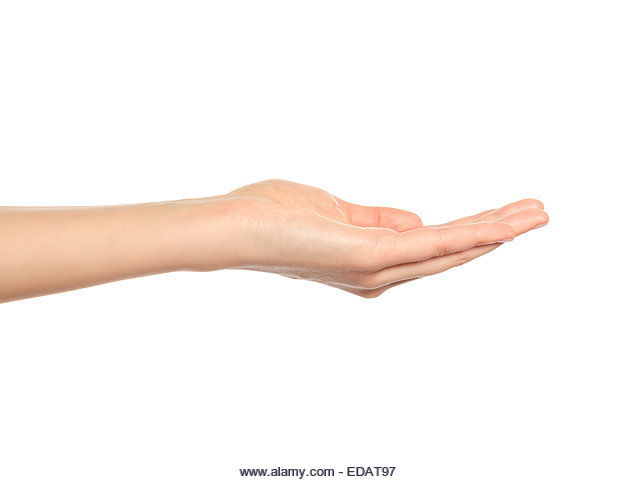hand: (199, 151, 562, 324)
